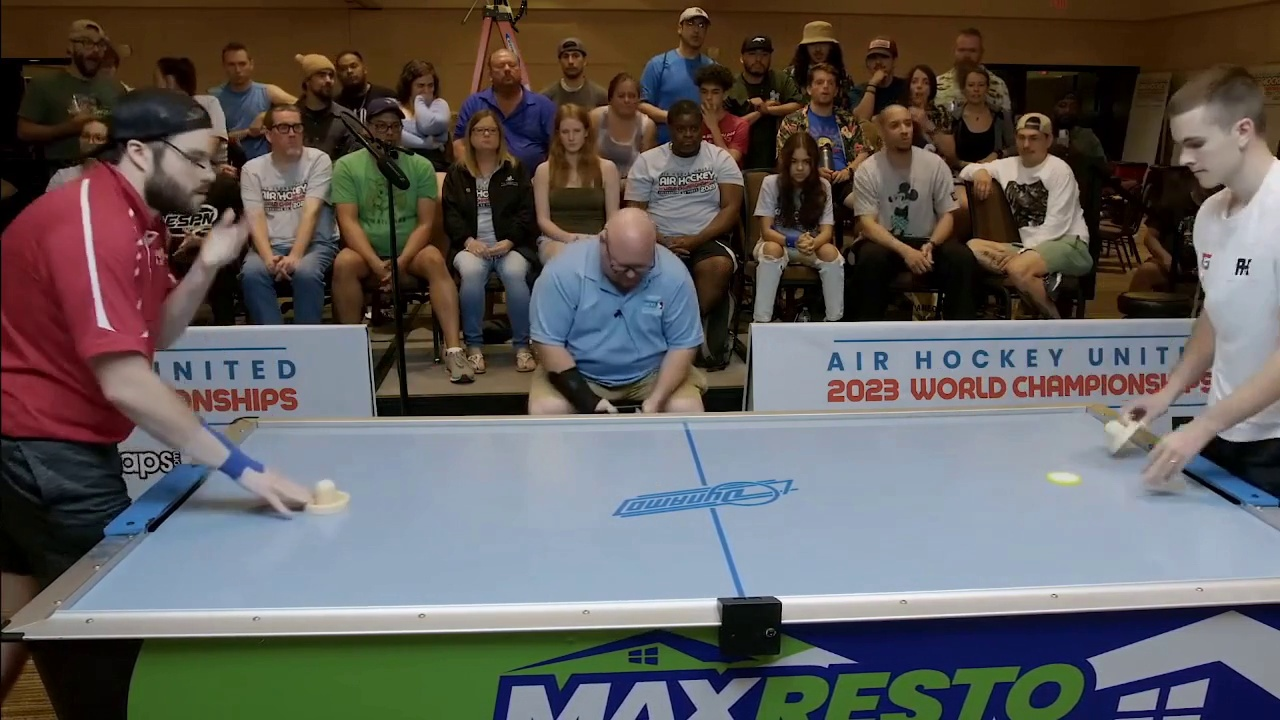player: (1098, 416, 1146, 454), (307, 475, 351, 513)
puck: (1046, 465, 1084, 489)
table: (57, 413, 1278, 611)
